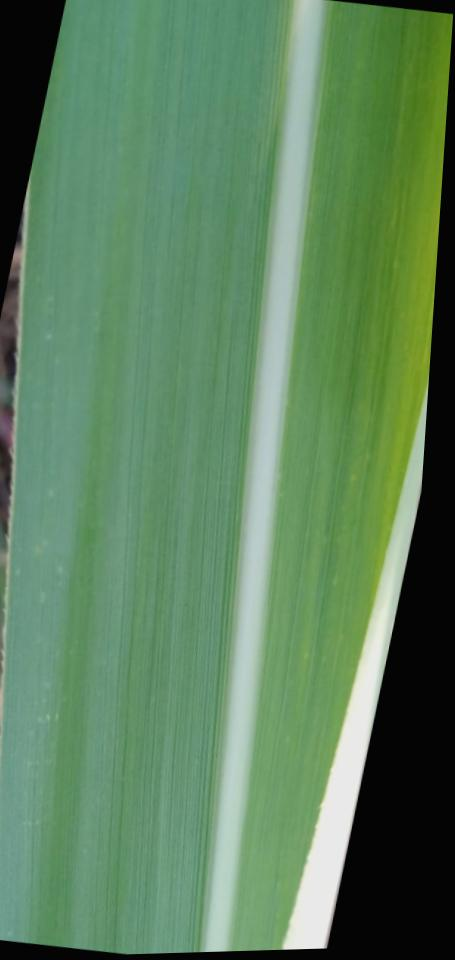Healthy: (0, 0, 453, 954)
